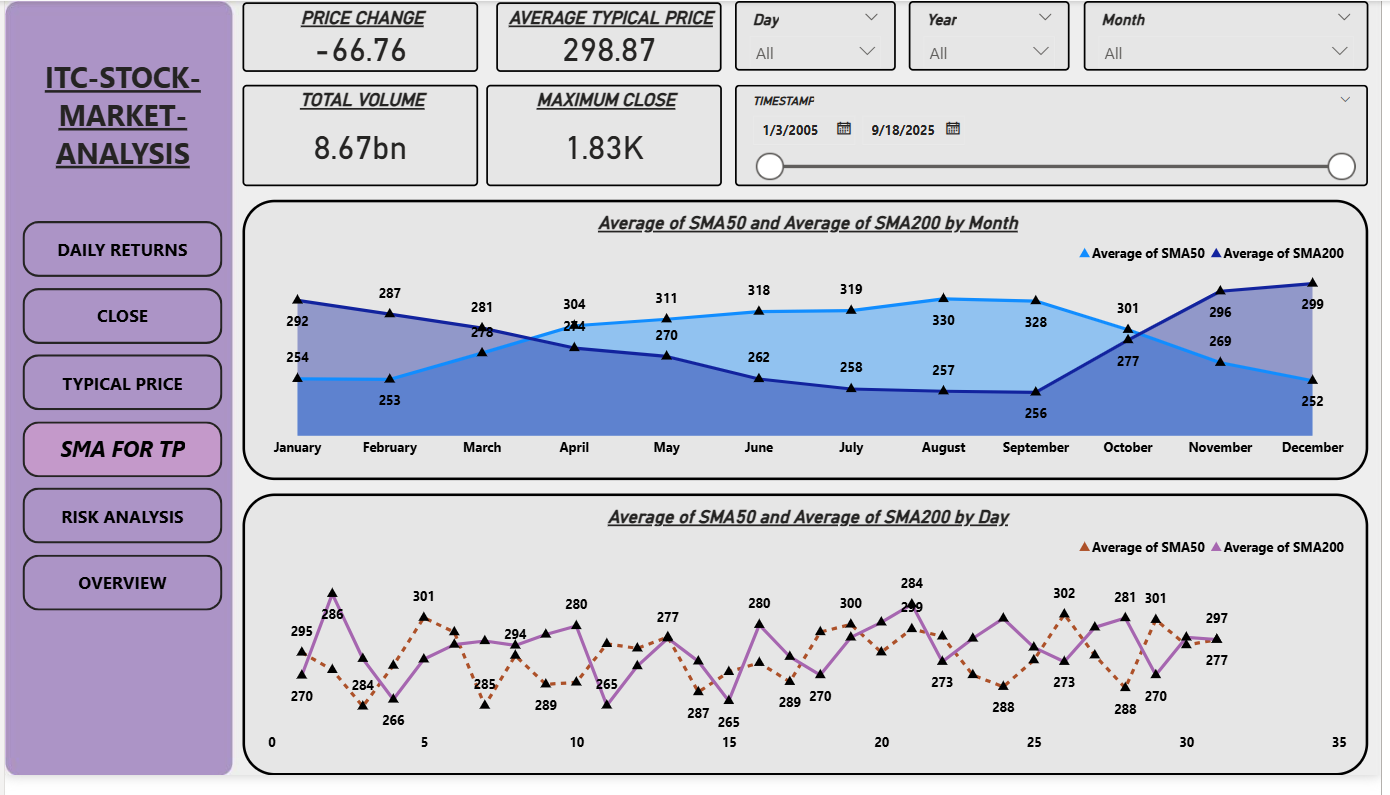

This screenshot's page, from the dashboard's own definition file:
{"tool":"powerbi","page":{"name":"SMA FOR TP","canvas":[1280,720],"ordinal":3},"visuals":[{"type":"areaChart","fields":{"Category":["FINAL_ITC_STOCK_UPDATED_TABLE.TIMESTAMP.Variation.Date Hierarchy.Month"],"Y":["Avg(FINAL_ITC_STOCK_UPDATED_TABLE.SMA50)"],"Y2":["Avg(FINAL_ITC_STOCK_UPDATED_TABLE.SMA200)"]},"box":[220.9,185.2,1047,260.7],"z":0},{"type":"lineChart","fields":{"Category":["FINAL_ITC_STOCK_UPDATED_TABLE.TIMESTAMP.Variation.Date Hierarchy.Day"],"Y":["Avg(FINAL_ITC_STOCK_UPDATED_TABLE.SMA50)"],"Y2":["Avg(FINAL_ITC_STOCK_UPDATED_TABLE.SMA200)"]},"box":[220.7,457.7,1047,262.1],"z":1000},{"type":"textbox","box":[16.5,48,186.6,124.9],"z":2000},{"type":"pageNavigator","box":[16.5,204.5,186.6,362],"z":3000},{"type":"card","title":"TOTAL VOLUME","fields":{"Values":["Sum(FINAL_ITC_STOCK_UPDATED_TABLE.VOLUME)"]},"box":[220.9,78.2,219.6,94.7],"z":4000},{"type":"card","title":"AVERAGE TYPICAL PRICE","fields":{"Values":["Avg(FINAL_ITC_STOCK_UPDATED_TABLE.TYPICAL_PRICE)"]},"box":[456.9,1.4,209.9,64.5],"z":5000},{"type":"slicer","fields":{"Values":["FINAL_ITC_STOCK_UPDATED_TABLE.TIMESTAMP.Variation.Date Hierarchy.Year"]},"box":[841.2,0,149.6,64.5],"z":6000},{"type":"slicer","fields":{"Values":["FINAL_ITC_STOCK_UPDATED_TABLE.TIMESTAMP.Variation.Date Hierarchy.Month"]},"box":[1003.1,0,264.8,64.5],"z":7000},{"type":"slicer","fields":{"Values":["FINAL_ITC_STOCK_UPDATED_TABLE.TIMESTAMP.Variation.Date Hierarchy.Day"]},"box":[679.2,0,149.6,64.5],"z":8000},{"type":"card","title":"MAXIMUM CLOSE","fields":{"Values":["Max(FINAL_ITC_STOCK_UPDATED_TABLE.CLOSE)"]},"box":[447.3,78.2,219.6,94.7],"z":9000},{"type":"card","title":"PRICE CHANGE","fields":{"Values":["FINAL_ITC_STOCK_UPDATED_TABLE.Price_Change%"]},"box":[220.9,1.4,219.6,64.5],"z":10000},{"type":"slicer","fields":{"Values":["FINAL_ITC_STOCK_UPDATED_TABLE.TIMESTAMP"]},"box":[679.2,78.2,588.7,94.7],"z":11000}]}

Visuals, with their boxes in screenshot pixels (x1, y1, x2, y2), scaled from the page's 1280x720 canvas onto the 1390x795 screenshot:
areaChart - FINAL_ITC_STOCK_UPDATED_TABLE.TIMESTAMP.Variation.Date Hierarchy.Month x Avg(FINAL_ITC_STOCK_UPDATED_TABLE.SMA50): BBox(240, 204, 1377, 492)
lineChart - FINAL_ITC_STOCK_UPDATED_TABLE.TIMESTAMP.Variation.Date Hierarchy.Day x Avg(FINAL_ITC_STOCK_UPDATED_TABLE.SMA50): BBox(240, 505, 1377, 794)
textbox: BBox(18, 53, 221, 191)
pageNavigator: BBox(18, 226, 221, 626)
"TOTAL VOLUME" card: BBox(240, 86, 478, 191)
"AVERAGE TYPICAL PRICE" card: BBox(496, 2, 724, 73)
slicer - FINAL_ITC_STOCK_UPDATED_TABLE.TIMESTAMP.Variation.Date Hierarchy.Year: BBox(913, 0, 1076, 71)
slicer - FINAL_ITC_STOCK_UPDATED_TABLE.TIMESTAMP.Variation.Date Hierarchy.Month: BBox(1089, 0, 1377, 71)
slicer - FINAL_ITC_STOCK_UPDATED_TABLE.TIMESTAMP.Variation.Date Hierarchy.Day: BBox(738, 0, 900, 71)
"MAXIMUM CLOSE" card: BBox(486, 86, 724, 191)
"PRICE CHANGE" card: BBox(240, 2, 478, 73)
slicer - FINAL_ITC_STOCK_UPDATED_TABLE.TIMESTAMP: BBox(738, 86, 1377, 191)
